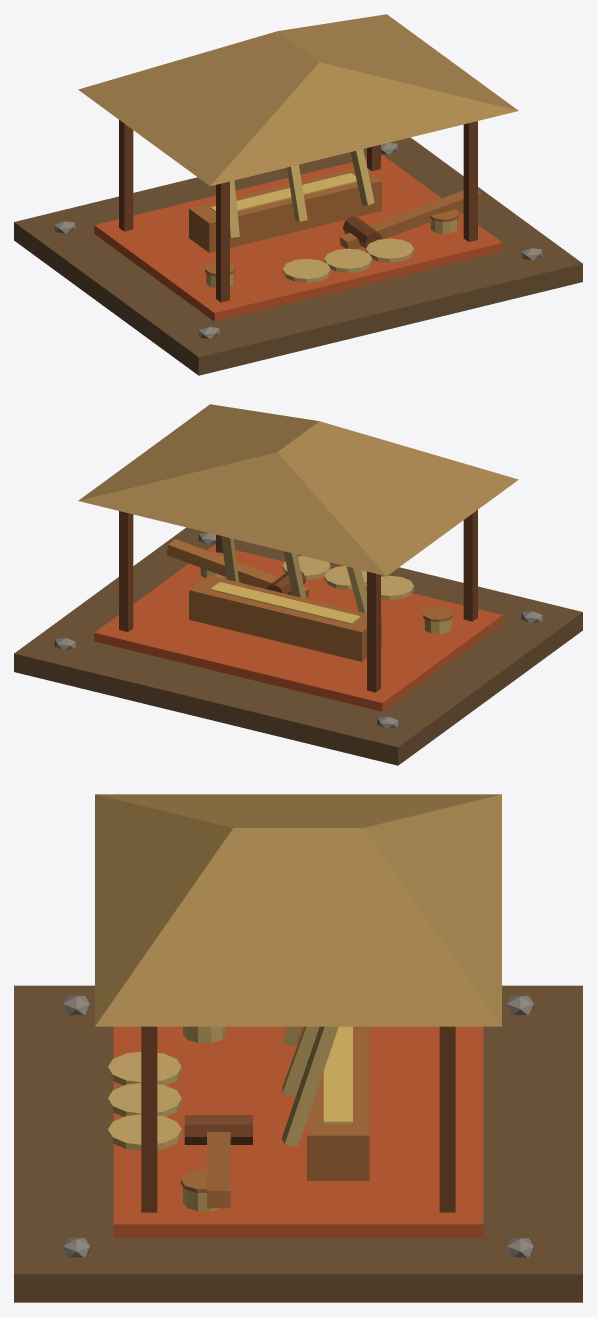
The model's file is traditional_rice_mill.glb.
3 renders of one model, top to bottom at view 1: azimuth 30°, elevation 25°; view 2: azimuth 150°, elevation 25°; view 3: azimuth 270°, elevation 25°, orthographic. The views are drawn at different scales.
Parts seen in each view (by area): view 1: RiceMillRoof, Building_Base, RiceMillFloor, WoodMortar, FootLever, RiceMillPost.002, RiceMillPost, RiceMillPost.001, MortarGrain, DryingTray, DryingTray.001, DryingTray.002 (+3 smaller); view 2: RiceMillRoof, Building_Base, RiceMillFloor, WoodMortar, FootLever, RiceMillPost.003, RiceMillPost.001, MortarGrain, RiceMillPost, DryingTray, Pestle.001, DryingTray.002 (+3 smaller); view 3: RiceMillRoof, Building_Base, RiceMillFloor, WoodMortar, RiceMillPost.002, RiceMillPost.003, MortarGrain, Pestle.002, FootLever, LeverPivot, DryingTray.002, DryingTray.001 (+3 smaller).
Boxes of the visible parts, x1,y1,x2,y2 form: RiceMillRoof: [78, 14, 518, 186]; Building_Base: [14, 137, 582, 375]; RiceMillFloor: [94, 155, 502, 321]; WoodMortar: [189, 168, 381, 252]; FootLever: [339, 190, 481, 249]; RiceMillPost.002: [463, 121, 477, 241]; RiceMillPost: [216, 181, 229, 302]; RiceMillPost.001: [119, 120, 133, 231]; MortarGrain: [210, 173, 356, 212]; DryingTray: [282, 258, 330, 282]; DryingTray.001: [324, 248, 372, 272]; DryingTray.002: [366, 238, 413, 262]; RiceMillRoof: [78, 404, 518, 576]; Building_Base: [14, 527, 582, 765]; RiceMillFloor: [94, 545, 502, 711]; WoodMortar: [189, 575, 381, 661]; FootLever: [166, 539, 308, 598]; RiceMillPost.003: [119, 511, 133, 631]; RiceMillPost.001: [367, 571, 380, 692]; MortarGrain: [210, 582, 360, 624]; RiceMillPost: [463, 510, 477, 621]; DryingTray: [366, 575, 413, 599]; Pestle.001: [283, 551, 306, 598]; DryingTray.002: [282, 556, 330, 579]; RiceMillRoof: [95, 794, 501, 1026]; Building_Base: [14, 985, 582, 1302]; RiceMillFloor: [113, 1026, 483, 1237]; WoodMortar: [307, 1026, 369, 1180]; RiceMillPost.002: [141, 1026, 157, 1212]; RiceMillPost.003: [439, 1026, 455, 1212]; MortarGrain: [323, 1026, 352, 1123]; Pestle.002: [281, 1026, 338, 1146]; FootLever: [207, 1132, 230, 1208]; LeverPivot: [184, 1115, 252, 1144]; DryingTray.002: [108, 1114, 181, 1150]; DryingTray.001: [108, 1083, 181, 1116].
Size of the model in its own units: 12 by 6.4 by 10.
